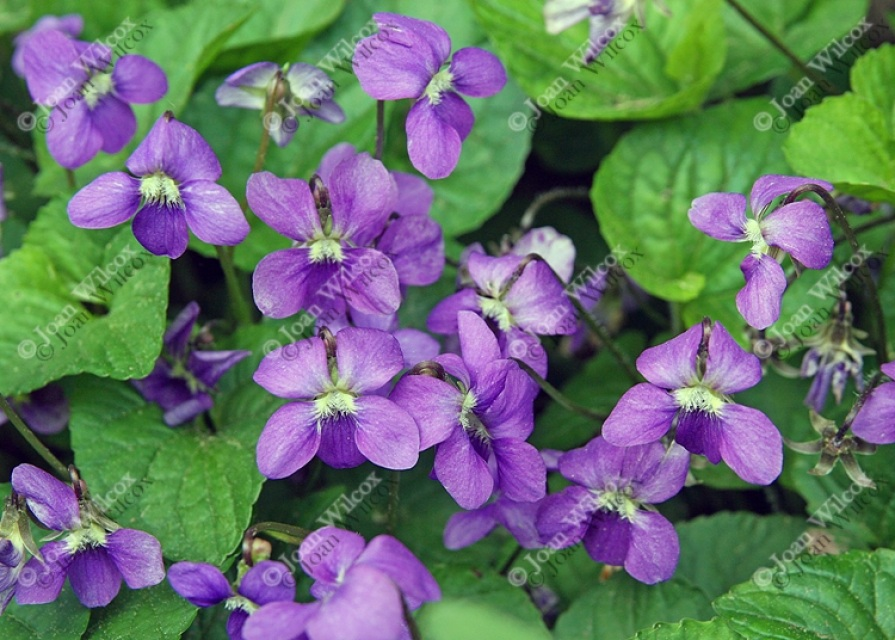violet: (622, 319, 792, 487), (686, 143, 839, 323), (546, 433, 697, 609), (68, 115, 241, 266), (7, 453, 166, 615), (243, 335, 414, 484), (234, 172, 405, 316), (395, 354, 554, 498), (279, 526, 470, 640), (449, 242, 587, 361), (172, 558, 298, 634)
